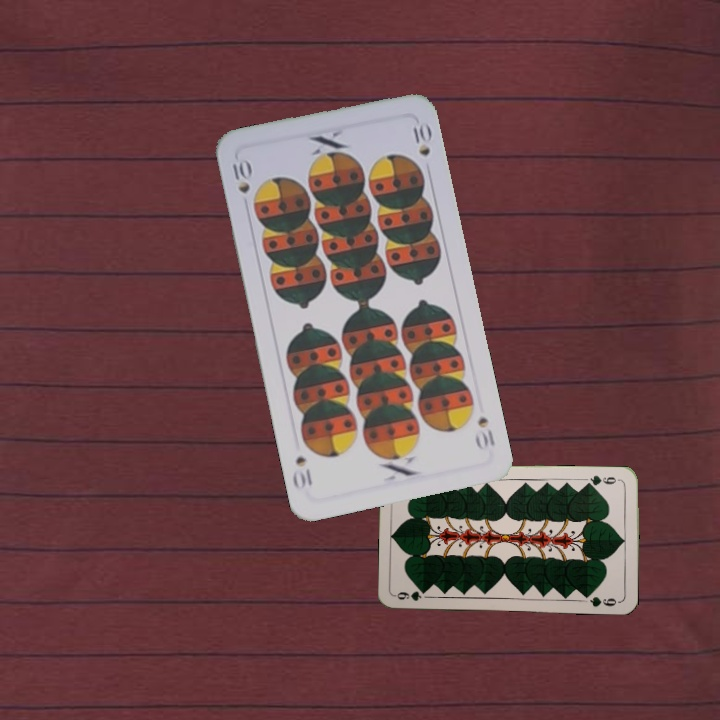G9: (583, 471, 623, 489), (393, 587, 424, 604)
S10: (227, 154, 253, 196), (472, 412, 498, 453)
